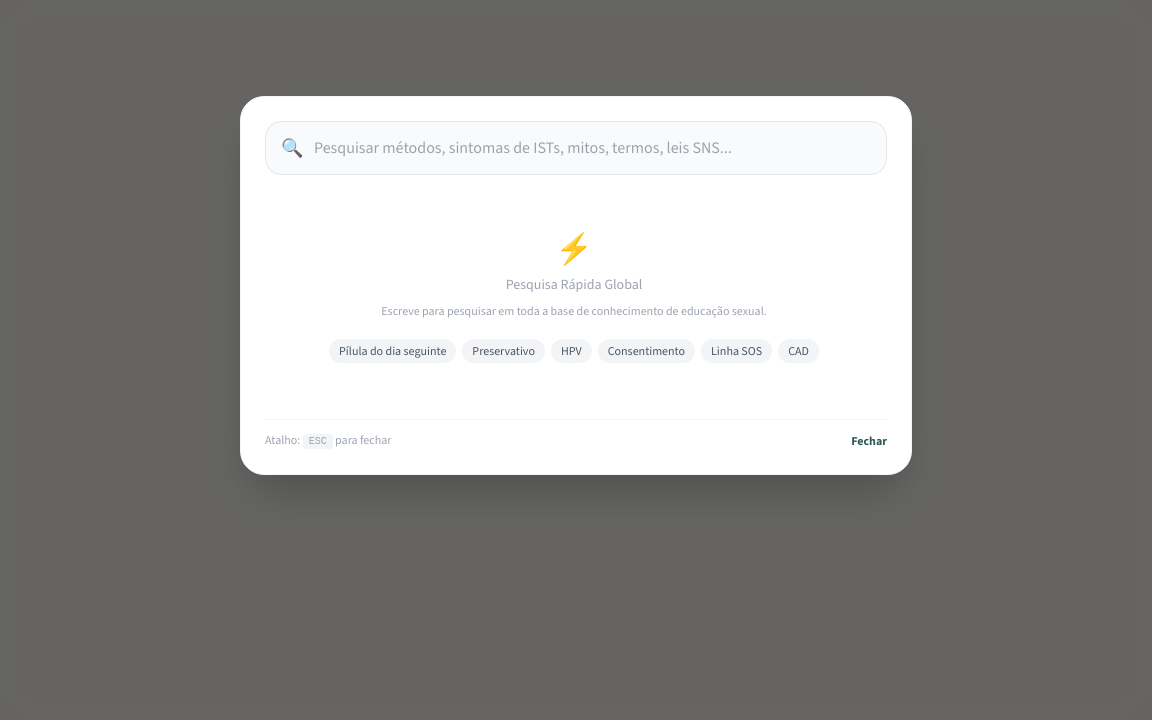
Test case: GlobalSearchModal › filters results and shows matching items
Replace the text in the field with placeholder "Pesquisar" with "pílula". click: (576, 148)
box: x1=265 y1=121 x2=887 y2=175
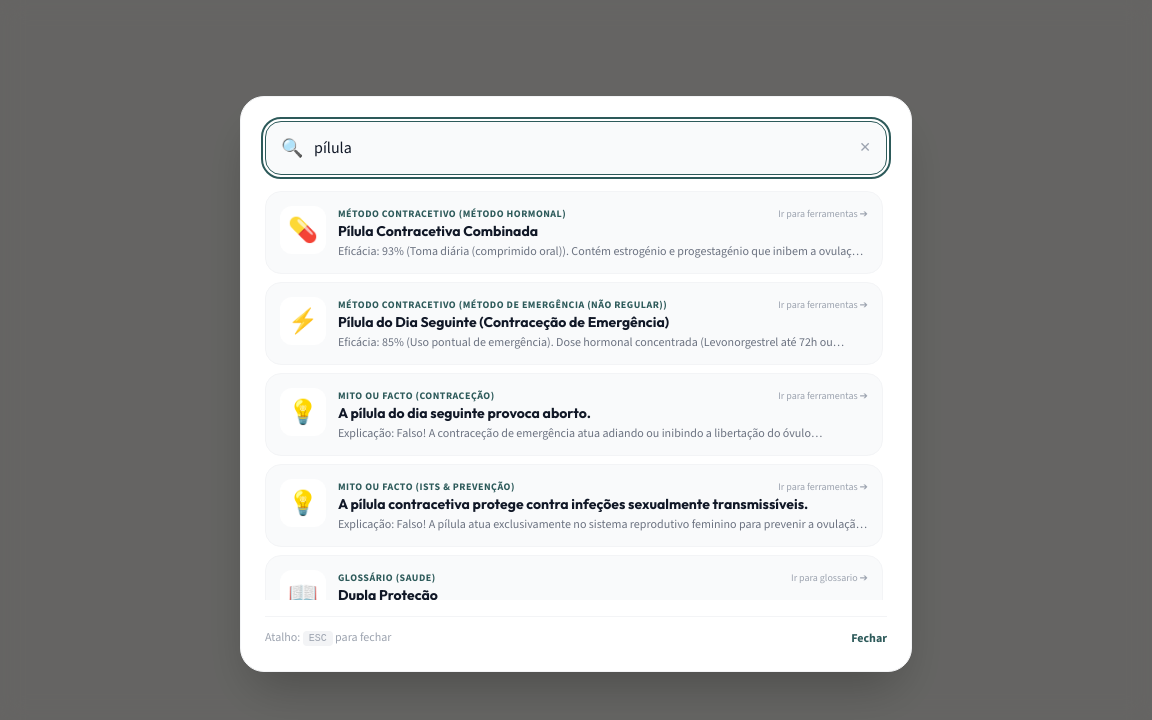
Check: the number of headings "Pílula do Dia Seguinte (Contraceção de Emergência)" is 3
